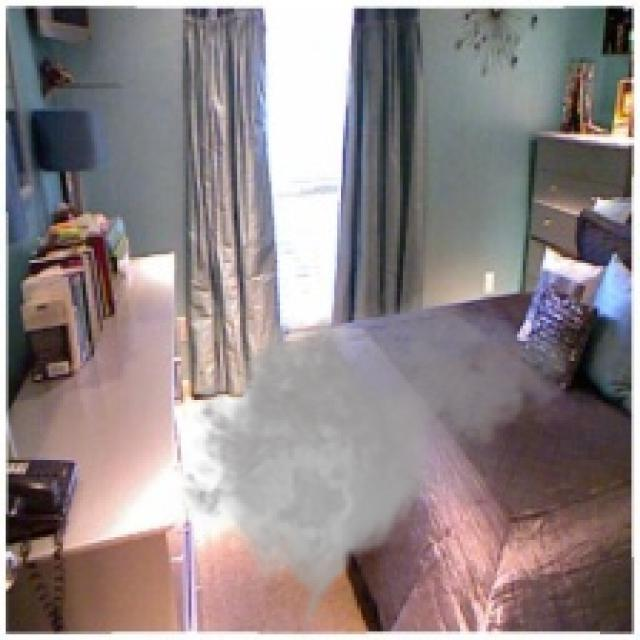Smoke: (168, 280, 580, 637)
